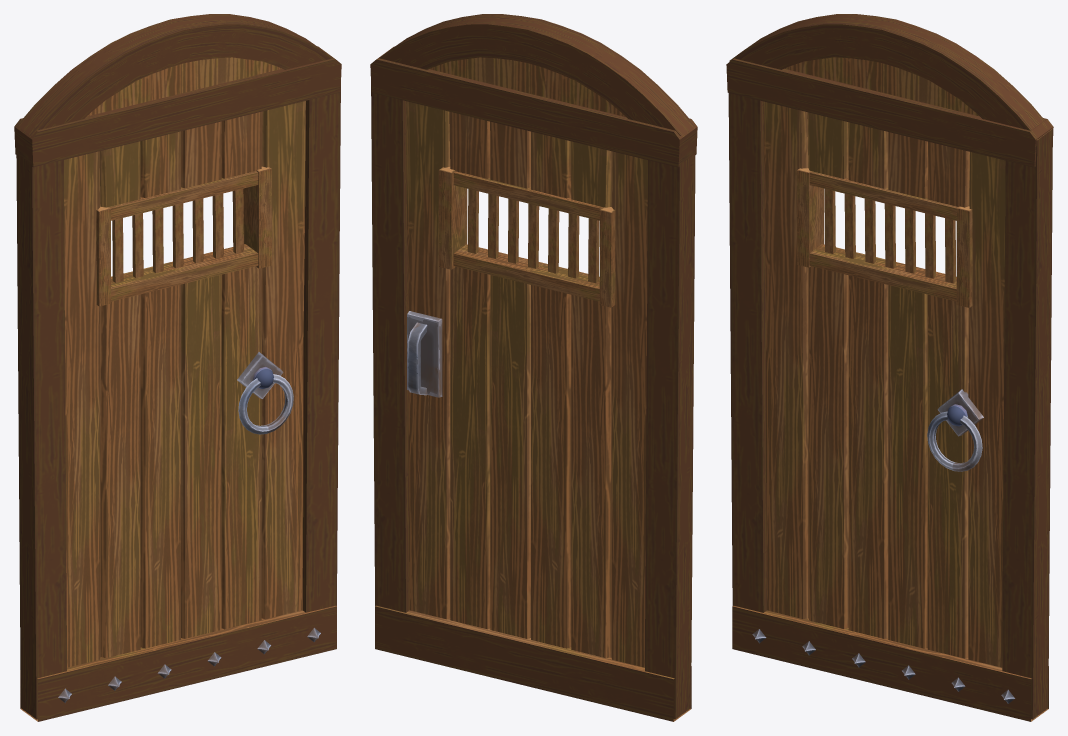
File: Door_8_Round.gltf
The picture shows the model from 3 angles, left to right: view 1: azimuth 30°, elevation 25°; view 2: azimuth 150°, elevation 25°; view 3: azimuth 330°, elevation 25°; orthographic projection.
Parts seen in each view (by area): view 1: Door_8_Round; view 2: Door_8_Round; view 3: Door_8_Round.
Part boxes in pixels (box(x1,y1,x2,y2)): Door_8_Round: box(14, 14, 341, 721); Door_8_Round: box(370, 14, 697, 721); Door_8_Round: box(726, 14, 1053, 721).
Size of the model in its own units: 1.15 by 2.32 by 0.1995.
Materials: 2 (2 with a texture image).
